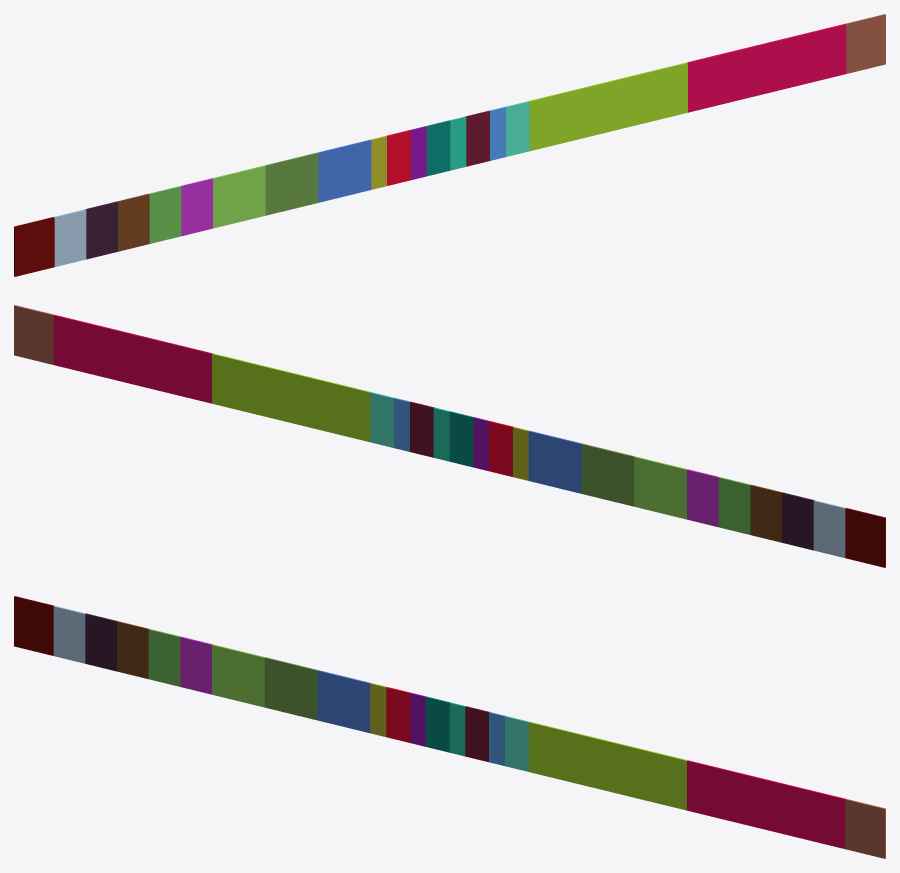
File: Elements_Spatial_Grid1d.glb
The picture shows the model from 3 angles, top to bottom: view 1: azimuth 30°, elevation 25°; view 2: azimuth 150°, elevation 25°; view 3: azimuth 330°, elevation 25°; orthographic projection.
Parts seen in each view (by area): view 1: 0e2e951c-a662-4479-9d3f-55ff6cffe840_mesh, b5fab918-e445-4c73-8500-d80b1f09286e_mesh, 6618f94c-8155-469b-83f8-492d62ac45b9_mesh, d4abb84c-282d-4d56-a9f2-a7c1eb2bcbbf_mesh, 9f94e084-c308-4930-8ec5-4492ab5e2951_mesh, 3f4e219c-13ac-49a0-a138-6ff0ec99ad99_mesh, c0ab3491-fee6-463a-be88-5582d97fc6b3_mesh, 0d917a50-ed08-4127-95e8-97399271f859_mesh, d90f6f0a-2816-4223-9c07-62137c80a7a6_mesh, b9606026-84b7-49a3-9b2f-c7f84f85cf4e_mesh, 610c51fa-5c98-46ff-b192-3fffcc8ebd27_mesh, 07739d55-4f5f-4011-abff-4ab674b5d50f_mesh (+8 smaller); view 2: 0e2e951c-a662-4479-9d3f-55ff6cffe840_mesh, b5fab918-e445-4c73-8500-d80b1f09286e_mesh, 6618f94c-8155-469b-83f8-492d62ac45b9_mesh, d4abb84c-282d-4d56-a9f2-a7c1eb2bcbbf_mesh, 9f94e084-c308-4930-8ec5-4492ab5e2951_mesh, 3f4e219c-13ac-49a0-a138-6ff0ec99ad99_mesh, c0ab3491-fee6-463a-be88-5582d97fc6b3_mesh, 0d917a50-ed08-4127-95e8-97399271f859_mesh, d90f6f0a-2816-4223-9c07-62137c80a7a6_mesh, b9606026-84b7-49a3-9b2f-c7f84f85cf4e_mesh, 610c51fa-5c98-46ff-b192-3fffcc8ebd27_mesh, 07739d55-4f5f-4011-abff-4ab674b5d50f_mesh (+8 smaller); view 3: b5fab918-e445-4c73-8500-d80b1f09286e_mesh, 0e2e951c-a662-4479-9d3f-55ff6cffe840_mesh, d4abb84c-282d-4d56-a9f2-a7c1eb2bcbbf_mesh, 6618f94c-8155-469b-83f8-492d62ac45b9_mesh, 9f94e084-c308-4930-8ec5-4492ab5e2951_mesh, c0ab3491-fee6-463a-be88-5582d97fc6b3_mesh, 3f4e219c-13ac-49a0-a138-6ff0ec99ad99_mesh, 0d917a50-ed08-4127-95e8-97399271f859_mesh, d90f6f0a-2816-4223-9c07-62137c80a7a6_mesh, b9606026-84b7-49a3-9b2f-c7f84f85cf4e_mesh, 610c51fa-5c98-46ff-b192-3fffcc8ebd27_mesh, 07739d55-4f5f-4011-abff-4ab674b5d50f_mesh (+8 smaller).
Part boxes in pixels (x1,y1,x2,y2): 0e2e951c-a662-4479-9d3f-55ff6cffe840_mesh: (687, 23, 846, 112); b5fab918-e445-4c73-8500-d80b1f09286e_mesh: (529, 62, 687, 150); 6618f94c-8155-469b-83f8-492d62ac45b9_mesh: (318, 139, 371, 202); d4abb84c-282d-4d56-a9f2-a7c1eb2bcbbf_mesh: (265, 152, 318, 215); 9f94e084-c308-4930-8ec5-4492ab5e2951_mesh: (212, 165, 265, 228); 3f4e219c-13ac-49a0-a138-6ff0ec99ad99_mesh: (14, 217, 54, 276); c0ab3491-fee6-463a-be88-5582d97fc6b3_mesh: (846, 14, 885, 73); 0d917a50-ed08-4127-95e8-97399271f859_mesh: (54, 209, 86, 266); d90f6f0a-2816-4223-9c07-62137c80a7a6_mesh: (149, 186, 181, 243); b9606026-84b7-49a3-9b2f-c7f84f85cf4e_mesh: (181, 178, 212, 236); 610c51fa-5c98-46ff-b192-3fffcc8ebd27_mesh: (85, 201, 117, 259); 07739d55-4f5f-4011-abff-4ab674b5d50f_mesh: (117, 194, 149, 251); 0e2e951c-a662-4479-9d3f-55ff6cffe840_mesh: (53, 314, 212, 403); b5fab918-e445-4c73-8500-d80b1f09286e_mesh: (212, 353, 370, 441); 6618f94c-8155-469b-83f8-492d62ac45b9_mesh: (528, 430, 581, 493); d4abb84c-282d-4d56-a9f2-a7c1eb2bcbbf_mesh: (581, 443, 634, 506); 9f94e084-c308-4930-8ec5-4492ab5e2951_mesh: (634, 456, 687, 519); 3f4e219c-13ac-49a0-a138-6ff0ec99ad99_mesh: (845, 508, 885, 567); c0ab3491-fee6-463a-be88-5582d97fc6b3_mesh: (14, 305, 53, 364); 0d917a50-ed08-4127-95e8-97399271f859_mesh: (813, 500, 845, 557); d90f6f0a-2816-4223-9c07-62137c80a7a6_mesh: (718, 477, 750, 534); b9606026-84b7-49a3-9b2f-c7f84f85cf4e_mesh: (687, 469, 718, 527); 610c51fa-5c98-46ff-b192-3fffcc8ebd27_mesh: (782, 492, 814, 550); 07739d55-4f5f-4011-abff-4ab674b5d50f_mesh: (750, 485, 782, 542); b5fab918-e445-4c73-8500-d80b1f09286e_mesh: (528, 721, 687, 810); 0e2e951c-a662-4479-9d3f-55ff6cffe840_mesh: (687, 760, 845, 848); d4abb84c-282d-4d56-a9f2-a7c1eb2bcbbf_mesh: (264, 657, 317, 720); 6618f94c-8155-469b-83f8-492d62ac45b9_mesh: (317, 670, 370, 732); 9f94e084-c308-4930-8ec5-4492ab5e2951_mesh: (212, 644, 265, 707); c0ab3491-fee6-463a-be88-5582d97fc6b3_mesh: (845, 799, 885, 858); 3f4e219c-13ac-49a0-a138-6ff0ec99ad99_mesh: (14, 596, 53, 655); 0d917a50-ed08-4127-95e8-97399271f859_mesh: (53, 605, 85, 663); d90f6f0a-2816-4223-9c07-62137c80a7a6_mesh: (148, 629, 180, 686); b9606026-84b7-49a3-9b2f-c7f84f85cf4e_mesh: (180, 636, 212, 694); 610c51fa-5c98-46ff-b192-3fffcc8ebd27_mesh: (85, 613, 117, 671); 07739d55-4f5f-4011-abff-4ab674b5d50f_mesh: (117, 621, 148, 678).
Bounding box in the file's own units: 55 × 3 × 0.1.
